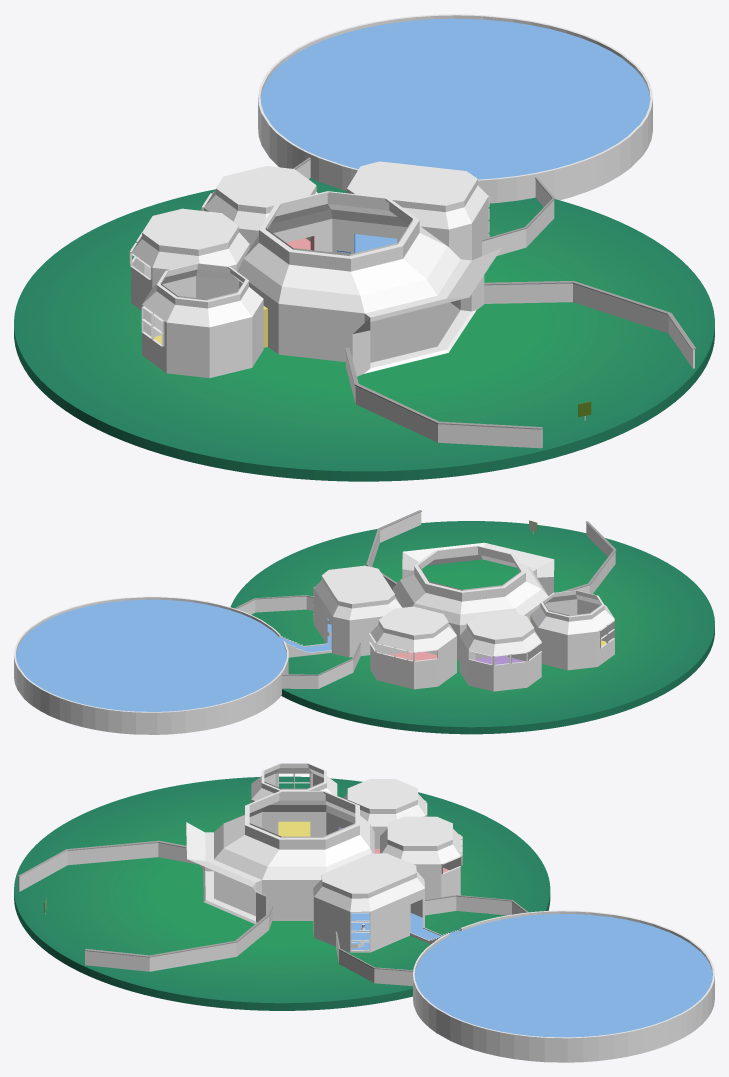
File: meeting-hall-1.glb
3 renders of one model, top to bottom at view 1: azimuth 30°, elevation 25°; view 2: azimuth 150°, elevation 25°; view 3: azimuth 270°, elevation 25°, orthographic. The views are drawn at different scales.
Parts seen in each view (by area): view 1: Platform_building, Building, architecture_platform, largefenceright, smallfenceright; view 2: Platform_building, Building, architecture_platform, smallfenceright, largefenceright; view 3: Platform_building, architecture_platform, Building, largefenceright, smallfenceright.
Boxes of the visible parts, bbox=[...] form: Platform_building: bbox=[14, 178, 714, 481]; Building: bbox=[129, 161, 501, 378]; architecture_platform: bbox=[258, 14, 652, 203]; largefenceright: bbox=[345, 281, 695, 448]; smallfenceright: bbox=[293, 157, 554, 255]; Platform_building: bbox=[230, 521, 714, 734]; Building: bbox=[280, 542, 614, 691]; architecture_platform: bbox=[14, 596, 288, 734]; smallfenceright: bbox=[234, 595, 360, 688]; largefenceright: bbox=[366, 510, 616, 595]; Platform_building: bbox=[14, 776, 550, 1010]; architecture_platform: bbox=[413, 910, 714, 1062]; Building: bbox=[186, 763, 462, 952]; largefenceright: bbox=[18, 840, 273, 971]; smallfenceright: bbox=[335, 895, 528, 985].
Bounding box in the file's own units: 73.12 × 9.64 × 77.41.
Materials: 2 (2 with a texture image).
